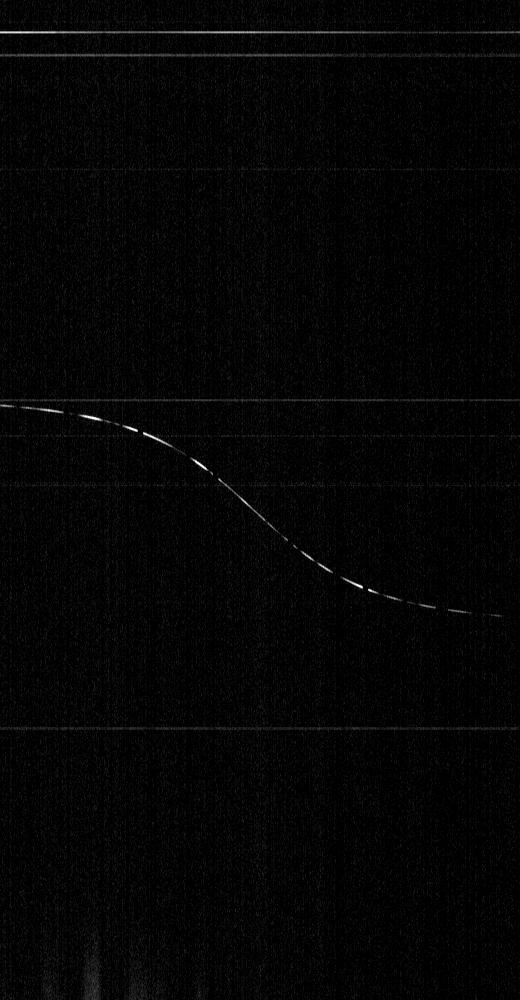signal: (0, 0, 519, 999)
